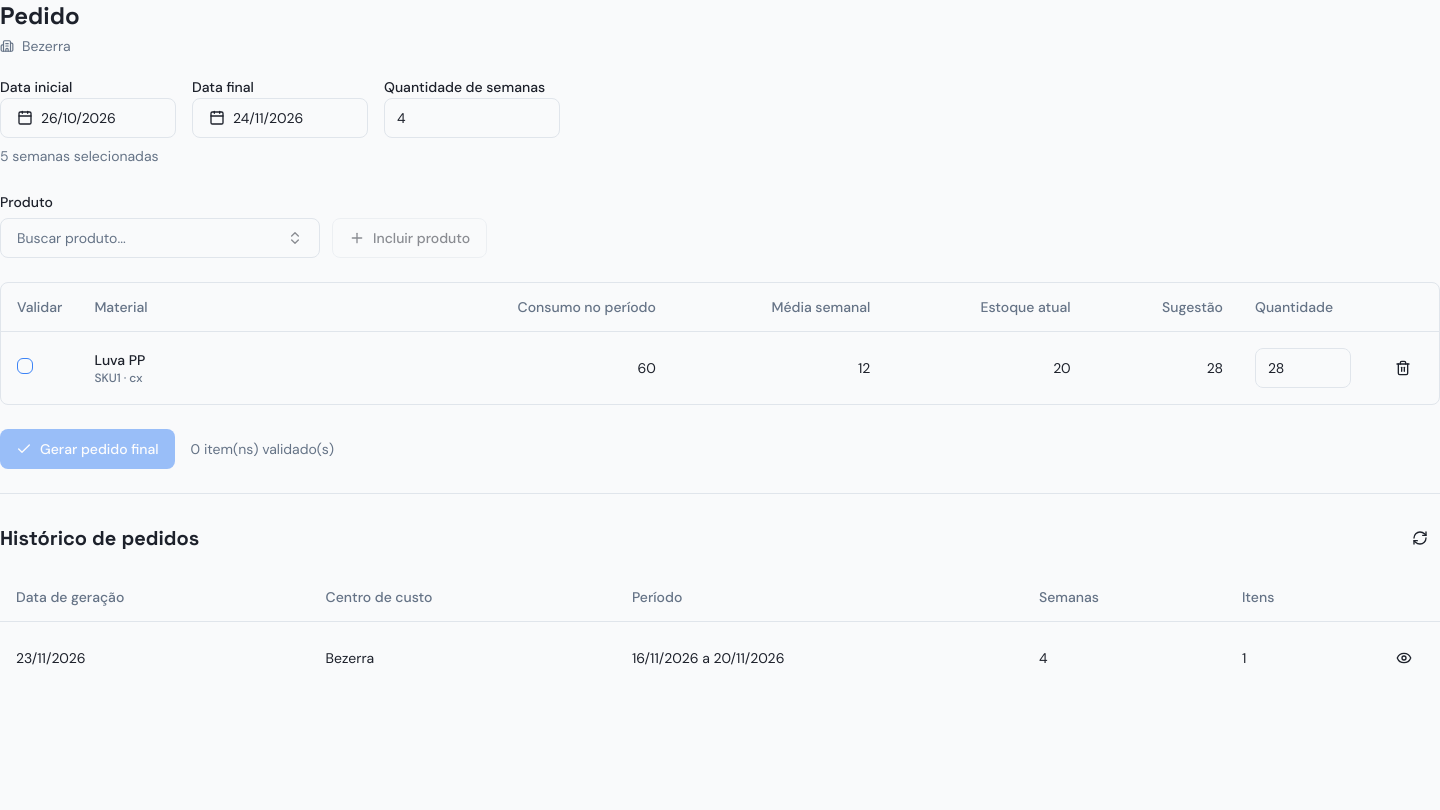
Pedido isolado dos lançamentos de estoque › consulta posterior recupera o pedido e a data sem recalcular quantidades
Click the button named "Consultar pedido o1".
click(1404, 658)  # box [1384,638,1424,678]
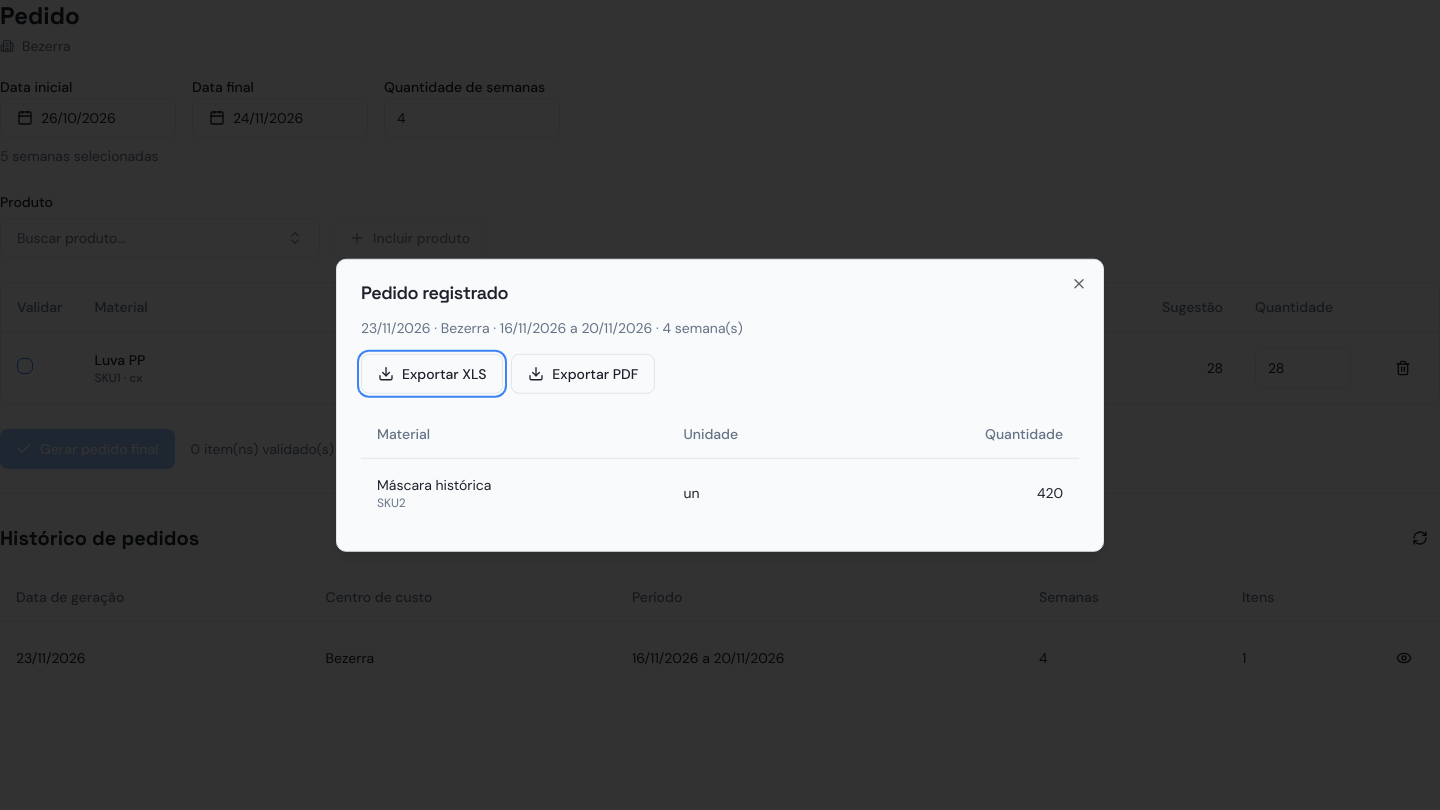
Check: the text "23/11/2026 · Bezerra · 16/11/2026 a 20/11/2026 · 4 semana(s)" is shown, box [361,319,743,337]
Check: the text "Máscara histórica" is shown, box [377,475,492,493]
Check: the text "420" is shown, box [849,458,1079,526]
